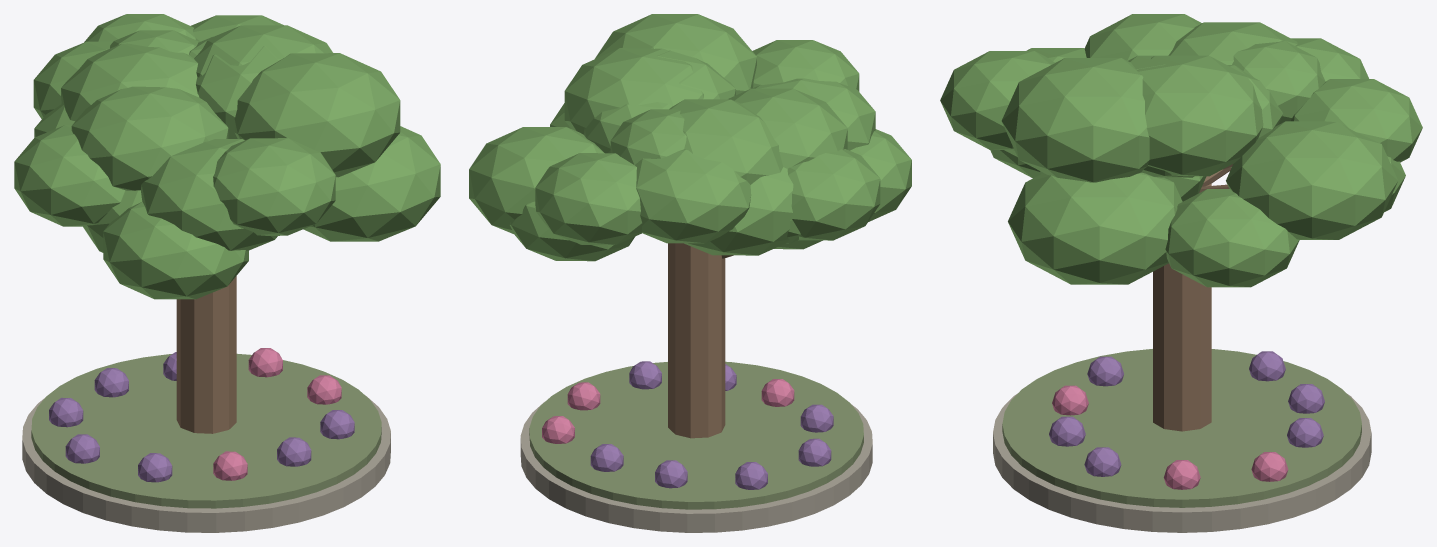
The model's file is planter-tree-1.glb.
3 views of the same model, side by side, from view 1: azimuth 30°, elevation 25°; view 2: azimuth 150°, elevation 25°; view 3: azimuth 270°, elevation 25° (orthographic). The views are drawn at different scales.
Parts seen in each view (by area): view 1: world; view 2: world; view 3: world.
Boxes of the visible parts, x1,y1,x2,y2 form: world: (14, 14, 440, 532); world: (469, 14, 911, 532); world: (940, 14, 1422, 532).
Bounding box in the file's own units: 1.1 × 1.12 × 1.17.
